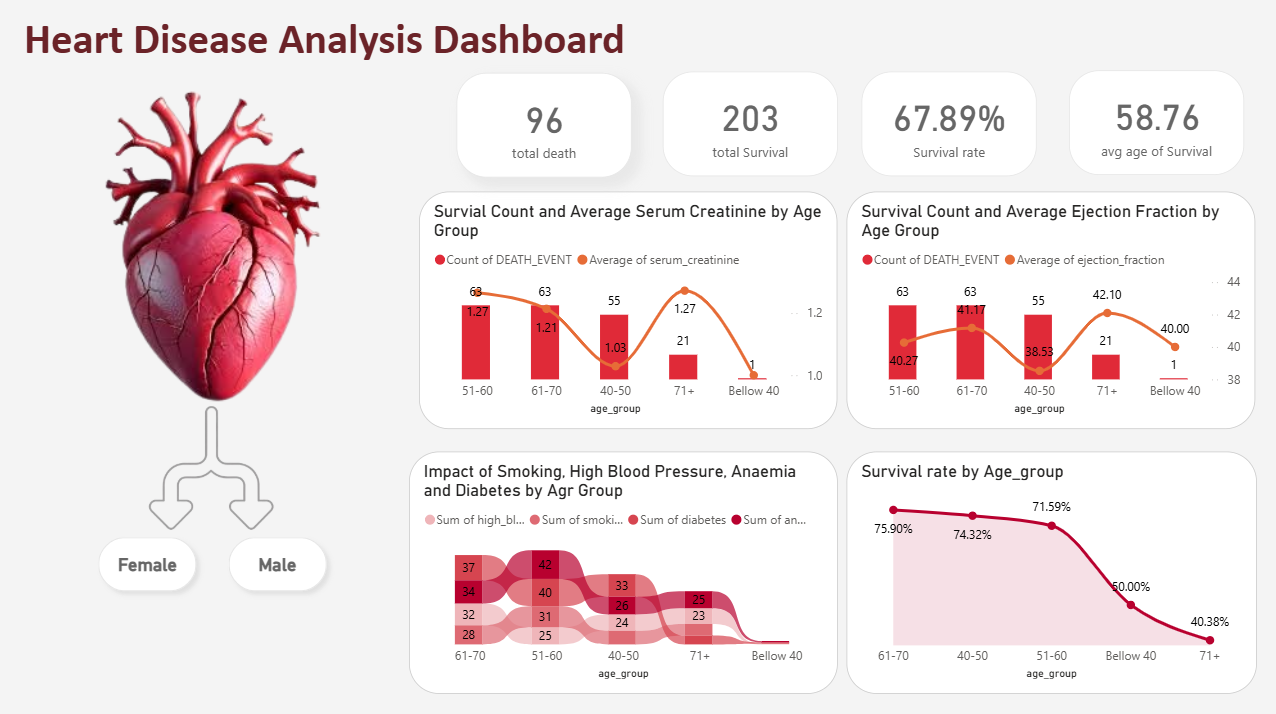

The page's visual inventory and layout, read from the dashboard file:
{"tool":"powerbi","page":{"name":"Page 1","canvas":[1280,720],"ordinal":0},"visuals":[{"type":"lineClusteredColumnComboChart","title":"Survial Count and Average Serum Creatinine by Age Group","fields":{"Category":["heart_Disease_clinical_records_.age_group"],"Y":["CountNonNull(heart_Disease_clinical_records_.DEATH_EVENT)"],"Y2":["Avg(heart_Disease_clinical_records_.serum_creatinine)"]},"box":[420,191.9,418.8,237.5],"z":0},{"type":"lineClusteredColumnComboChart","title":"Survival Count and Average Ejection Fraction by Age Group","fields":{"Category":["heart_Disease_clinical_records_.age_group"],"Y":["CountNonNull(heart_Disease_clinical_records_.DEATH_EVENT)"],"Y2":["Avg(heart_Disease_clinical_records_.ejection_fraction)"]},"box":[847.5,191.9,408.8,237.5],"z":1000},{"type":"lineChart","title":"Survival rate by Age_group","fields":{"Category":["heart_Disease_clinical_records_.age_group"],"Y":["measure.Survival rate"]},"box":[847.5,452.5,410,242.5],"z":2000},{"type":"ribbonChart","title":"Impact of Smoking, High Blood Pressure, Anaemia and Diabetes by Agr Group","fields":{"Category":["heart_Disease_clinical_records_.age_group"],"Y":["Sum(heart_Disease_clinical_records_.high_blood_pressure)","Sum(heart_Disease_clinical_records_.smoking)","Sum(heart_Disease_clinical_records_.diabetes)","Sum(heart_Disease_clinical_records_.anaemia)"]},"box":[410,452.5,428.8,242.5],"z":3000},{"type":"advancedSlicerVisual","fields":{"Values":["heart_Disease_clinical_records_.gender"]},"box":[82.5,526.2,393.8,83.8],"z":4000},{"type":"card","fields":{"Values":["measure.avg age of Survival"]},"box":[1070,70.7,175,105],"z":5000},{"type":"card","fields":{"Values":["measure.total death"]},"box":[457.5,73.2,175,105],"z":6000},{"type":"card","fields":{"Values":["measure.total Survival"]},"box":[663.8,71.9,175,105],"z":7000},{"type":"card","fields":{"Values":["measure.Survival rate"]},"box":[862.5,71.9,175,105],"z":8000},{"type":"textbox","box":[20,8.8,630,67.5],"z":9000},{"type":"image","box":[43.8,76.2,346.2,338.8],"z":9001},{"type":"image","box":[127.5,396.2,168.8,158.8],"z":9002}]}

Visuals, with their boxes in screenshot pixels (x1, y1, x2, y2), scaled from the page's 1280x720 canvas onto the 1276x714 screenshot:
"Survial Count and Average Serum Creatinine by Age Group" lineClusteredColumnComboChart: <box>419,190,836,426</box>
"Survival Count and Average Ejection Fraction by Age Group" lineClusteredColumnComboChart: <box>845,190,1252,426</box>
"Survival rate by Age_group" lineChart: <box>845,449,1254,689</box>
"Impact of Smoking, High Blood Pressure, Anaemia and Diabetes by Agr Group" ribbonChart: <box>409,449,836,689</box>
advancedSlicerVisual - heart_Disease_clinical_records_.gender: <box>82,522,475,605</box>
card - measure.avg age of Survival: <box>1067,70,1241,174</box>
card - measure.total death: <box>456,73,631,177</box>
card - measure.total Survival: <box>662,71,836,175</box>
card - measure.Survival rate: <box>860,71,1034,175</box>
textbox: <box>20,9,648,76</box>
image: <box>44,76,389,412</box>
image: <box>127,393,295,550</box>
